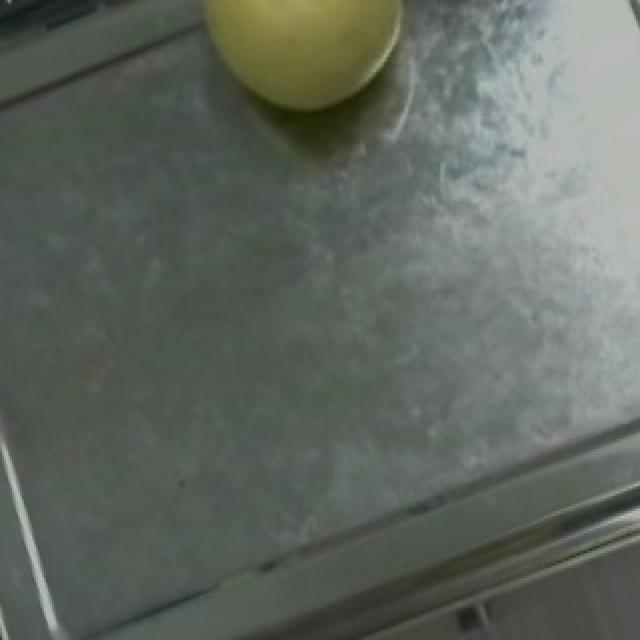Fruit: (162, 0, 440, 149)
